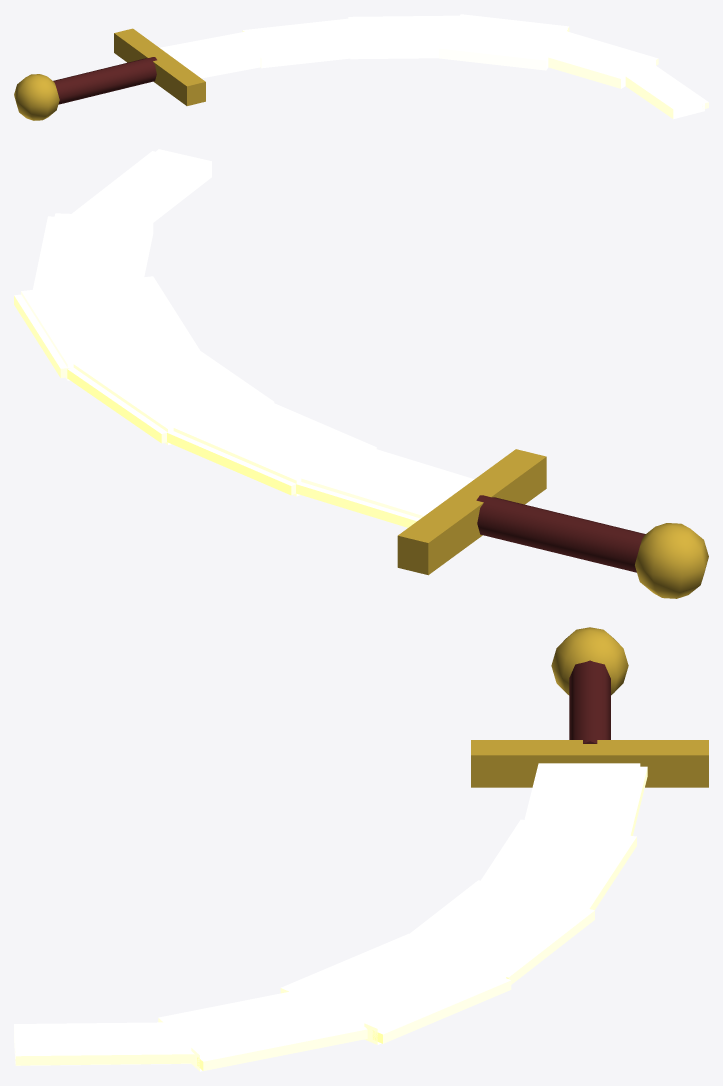
Rendered from scimitar.glb.
3 renders of one model, top to bottom at view 1: azimuth 30°, elevation 25°; view 2: azimuth 150°, elevation 25°; view 3: azimuth 270°, elevation 25°, orthographic. The views are drawn at different scales.
Parts seen in each view (by area): view 1: Mesh_Blade3, Mesh_Blade2, Mesh_Blade1, Mesh_Blade4, Mesh_Blade0, Mesh_Guard, Mesh_Grip, Mesh_Blade5, Mesh_Pommel; view 2: Mesh_Blade3, Mesh_Blade2, Mesh_Blade1, Mesh_Blade4, Mesh_Guard, Mesh_Blade0, Mesh_Grip, Mesh_Blade5, Mesh_Pommel, Mesh_Edge1, Mesh_Edge0, Mesh_Edge2 (+1 smaller); view 3: Mesh_Blade3, Mesh_Blade2, Mesh_Guard, Mesh_Blade1, Mesh_Blade4, Mesh_Blade0, Mesh_Blade5, Mesh_Grip, Mesh_Pommel, Mesh_Edge5, Mesh_Edge4, Mesh_Edge3 (+3 smaller).
Part boxes in pixels (x1,y1,x2,y2): Mesh_Blade3: [439, 14, 567, 70]; Mesh_Blade2: [348, 15, 461, 59]; Mesh_Blade1: [244, 18, 368, 68]; Mesh_Blade4: [531, 31, 655, 88]; Mesh_Blade0: [160, 31, 274, 78]; Mesh_Guard: [114, 28, 205, 105]; Mesh_Grip: [53, 57, 156, 104]; Mesh_Blade5: [625, 61, 704, 119]; Mesh_Pommel: [14, 74, 59, 120]; Mesh_Blade3: [21, 276, 199, 380]; Mesh_Blade2: [73, 337, 274, 444]; Mesh_Blade1: [170, 395, 376, 496]; Mesh_Blade4: [39, 213, 153, 292]; Mesh_Guard: [397, 449, 546, 575]; Mesh_Blade0: [294, 442, 474, 518]; Mesh_Grip: [476, 495, 645, 572]; Mesh_Blade5: [74, 149, 211, 227]; Mesh_Pommel: [635, 523, 708, 598]; Mesh_Edge1: [165, 431, 295, 495]; Mesh_Edge0: [290, 481, 420, 527]; Mesh_Edge2: [67, 367, 166, 443]; Mesh_Blade3: [280, 933, 505, 1044]; Mesh_Blade2: [393, 880, 588, 973]; Mesh_Guard: [471, 740, 708, 787]; Mesh_Blade1: [472, 819, 629, 905]; Mesh_Blade4: [158, 991, 364, 1071]; Mesh_Blade0: [522, 763, 640, 835]; Mesh_Blade5: [14, 1022, 196, 1065]; Mesh_Grip: [569, 660, 610, 743]; Mesh_Pommel: [551, 627, 628, 695]; Mesh_Edge5: [15, 1051, 194, 1065]; Mesh_Edge4: [197, 1026, 367, 1070]; Mesh_Edge3: [372, 978, 511, 1043].
Bounding box in the file's own units: 3.32 × 0.26 × 2.34.
